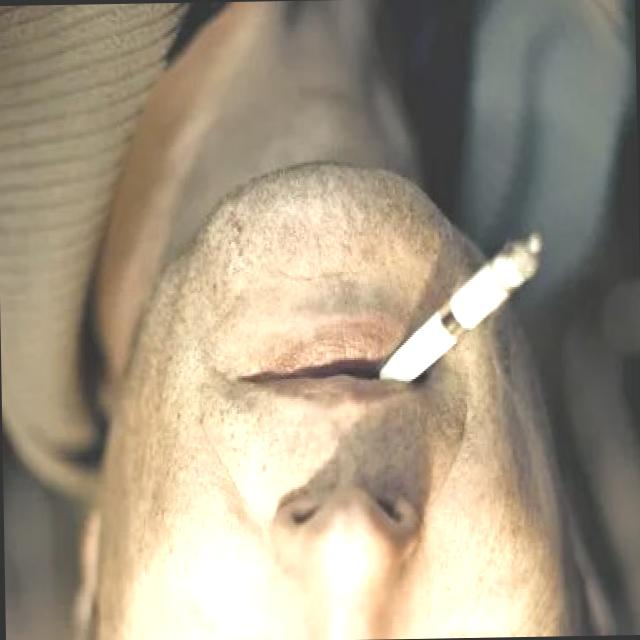smoke: (370, 224, 548, 387)
